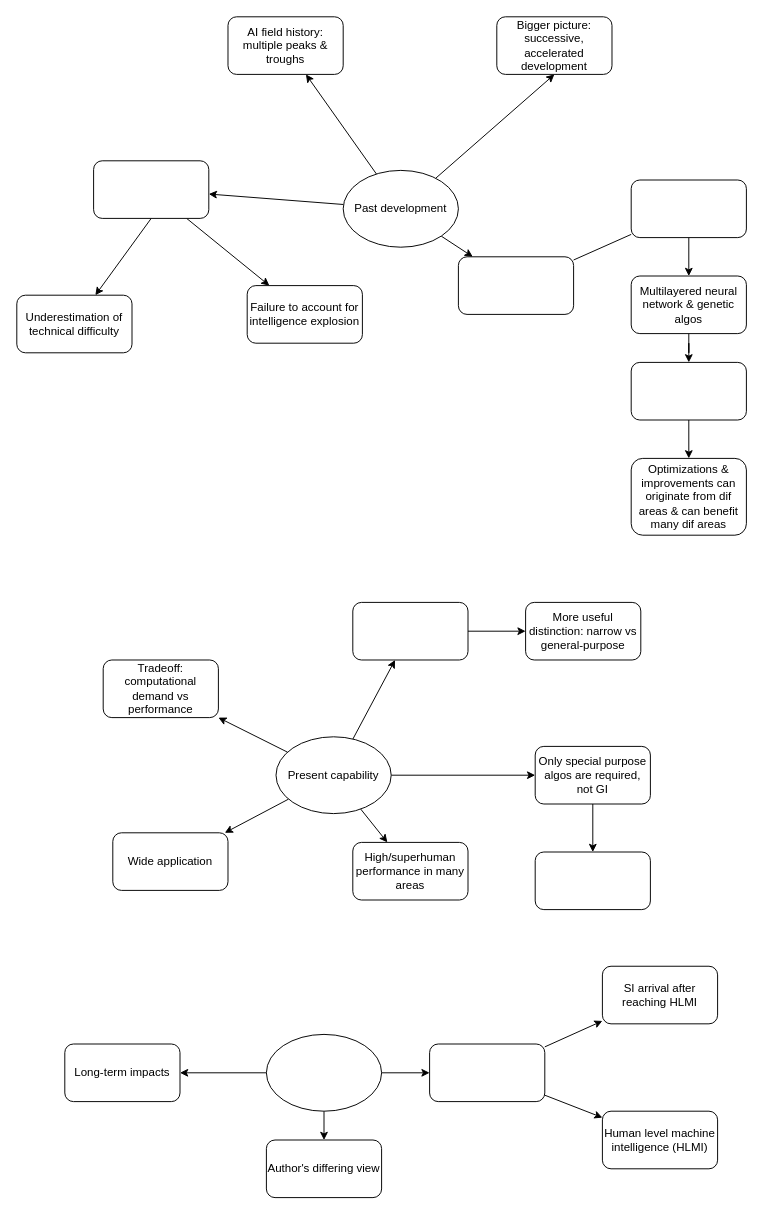
Image size: 763x1214. Some labels were removed from this diagram. The centre of each missing label's shape, as x and y in pixels:
"AI vs software: blurring line" belongs at pixel 410 630.
"Classification into general algo groups" belongs at pixel 688 390.
"Expert surveys: no consesus -> Weak conclusion" belongs at pixel 323 1072.
"High level ability might be achievable through simpler mechanism" belongs at pixel 592 880.
"Logic paradigm" belongs at pixel 688 208.
"Progress" belongs at pixel 515 285.
"Repeated failed predictions & hypes" belongs at pixel 151 189.
"Timing" belongs at pixel 487 1072.
